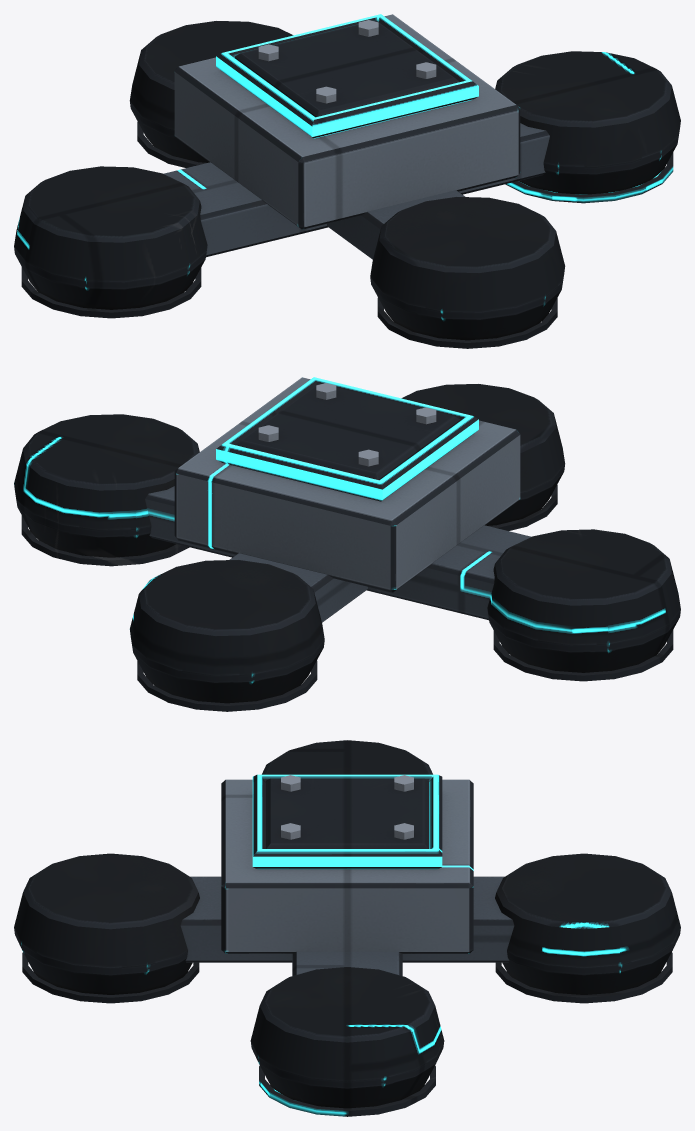
File: tren_aterrizaje_hover_t3.fbx
3 renders of one model, top to bottom at view 1: azimuth 30°, elevation 25°; view 2: azimuth 150°, elevation 25°; view 3: azimuth 270°, elevation 25°, orthographic.
Parts seen in each view (by area): view 1: tren_aterrizaje_hover_t3; view 2: tren_aterrizaje_hover_t3; view 3: tren_aterrizaje_hover_t3.
Part boxes in pixels (bbox=[...]): tren_aterrizaje_hover_t3: bbox=[14, 14, 680, 348]; tren_aterrizaje_hover_t3: bbox=[14, 377, 680, 711]; tren_aterrizaje_hover_t3: bbox=[14, 740, 680, 1116].
Size of the model in its own units: 4.63 by 1.21 by 4.23.
